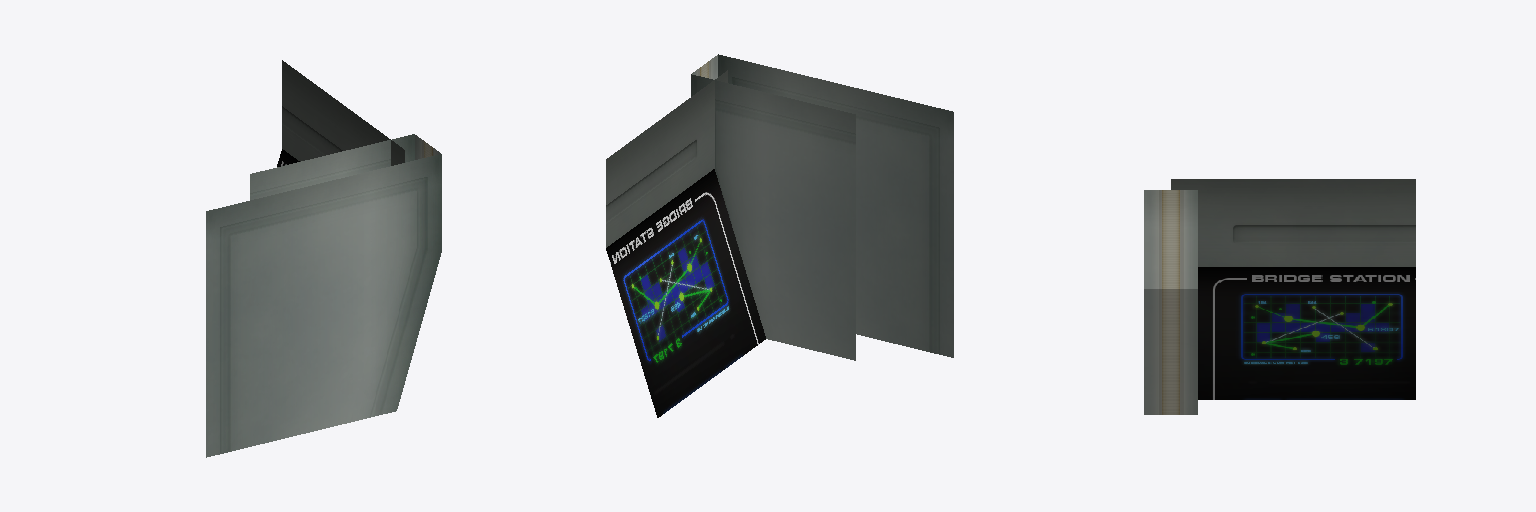
3 renders of one model, left to right at view 1: azimuth 30°, elevation 25°; view 2: azimuth 150°, elevation 25°; view 3: azimuth 270°, elevation 25°, orthographic.
Visible parts, largest first — view 1: console_top_left_Cube.003; view 2: console_top_left_Cube.003; view 3: console_top_left_Cube.003.
Part boxes in pixels (bbox=[...]): console_top_left_Cube.003: bbox=[206, 60, 441, 457]; console_top_left_Cube.003: bbox=[606, 54, 953, 417]; console_top_left_Cube.003: bbox=[1144, 179, 1415, 414].
Size of the model in its own units: 1 by 1 by 1.
4 materials, 4 textured.